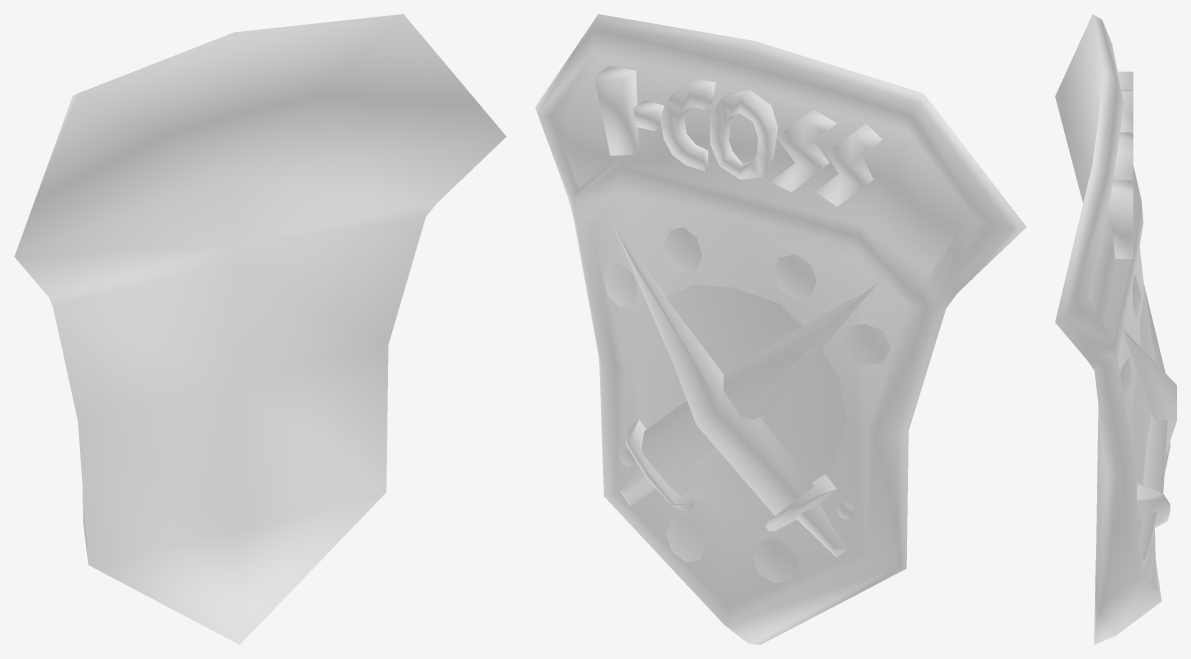
File: ps2_save-icons_surveillance.glb
3 renders of one model, left to right at view 1: azimuth 30°, elevation 25°; view 2: azimuth 150°, elevation 25°; view 3: azimuth 270°, elevation 25°, orthographic. The views are drawn at different scales.
Visible parts, largest first — view 1: icoss.ico; view 2: icoss.ico; view 3: icoss.ico.
Part boxes in pixels (<box>): icoss.ico: <box>14,14,506,644</box>; icoss.ico: <box>535,14,1026,644</box>; icoss.ico: <box>1055,14,1176,644</box>.
Size of the model in its own units: 3.93 by 4.65 by 0.897.
Materials: 1 (1 with a texture image).
